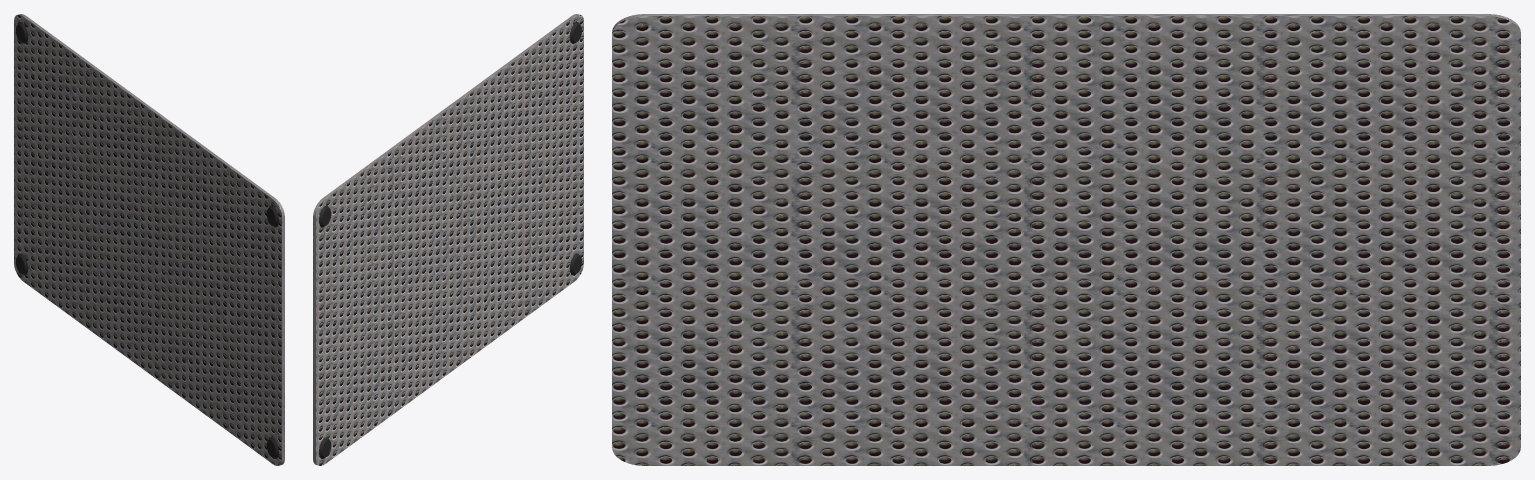
Rendered from PanelEpis.fbx.
3 renders of one model, left to right at view 1: azimuth 30°, elevation 25°; view 2: azimuth 150°, elevation 25°; view 3: azimuth 270°, elevation 25°, orthographic. The views are drawn at different scales.
Parts seen in each view (by area): view 1: PanelEpis; view 2: PanelEpis; view 3: PanelEpis.
Part boxes in pixels (box(x1,y1,x2,y2)): PanelEpis: box(14, 14, 284, 465); PanelEpis: box(313, 14, 583, 465); PanelEpis: box(612, 14, 1520, 465).
Bounding box in the file's own units: 1.79 × 87.47 × 160.
Materials: 2 (1 with a texture image).
